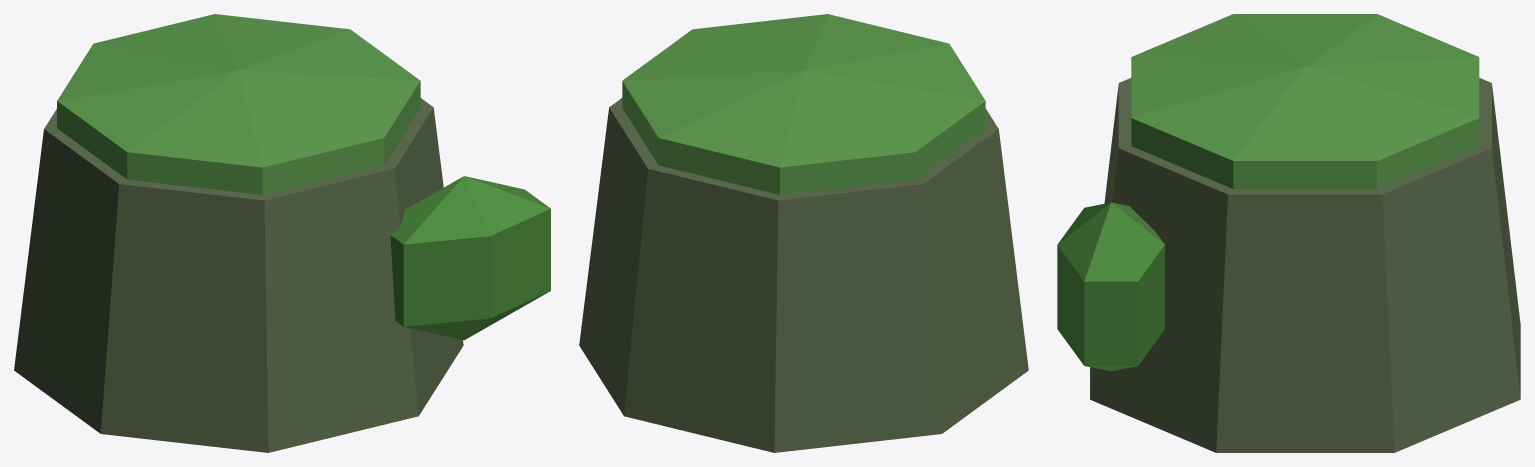
File: stump_mossy.glb
3 views of the same model, side by side, from view 1: azimuth 30°, elevation 25°; view 2: azimuth 150°, elevation 25°; view 3: azimuth 270°, elevation 25° (orthographic). The views are drawn at different scales.
Parts seen in each view (by area): view 1: stump_mossy; view 2: stump_mossy; view 3: stump_mossy.
Boxes of the visible parts, left/top/right/bottom form: stump_mossy: left=14, top=14, right=550, bottom=452; stump_mossy: left=579, top=14, right=1028, bottom=452; stump_mossy: left=1057, top=14, right=1520, bottom=452.
Size of the model in its own units: 0.5897 by 0.42 by 0.5964.
